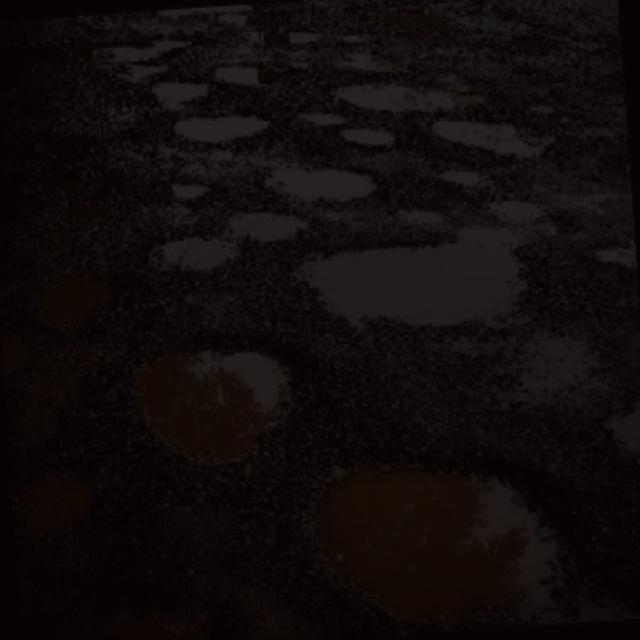Pothole: (304, 446, 614, 636), (304, 208, 567, 336), (135, 332, 311, 452), (61, 588, 215, 640), (329, 77, 519, 114), (26, 264, 119, 337), (430, 109, 560, 159), (255, 153, 391, 200), (7, 467, 108, 530), (83, 32, 200, 69), (156, 228, 242, 278), (163, 106, 281, 142), (209, 50, 302, 86), (228, 201, 302, 245), (136, 71, 218, 108), (152, 7, 262, 27), (0, 327, 43, 378), (336, 122, 406, 149), (165, 174, 218, 207), (296, 100, 350, 130), (436, 165, 490, 186)
